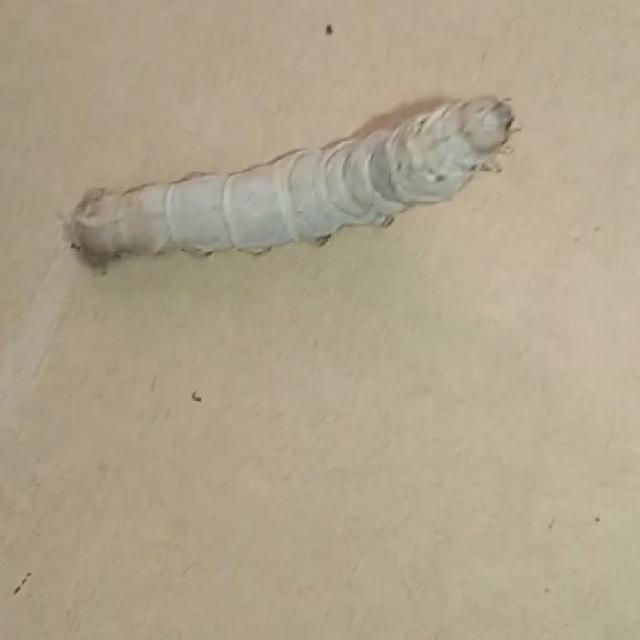Grasserie: (60, 81, 531, 282)
